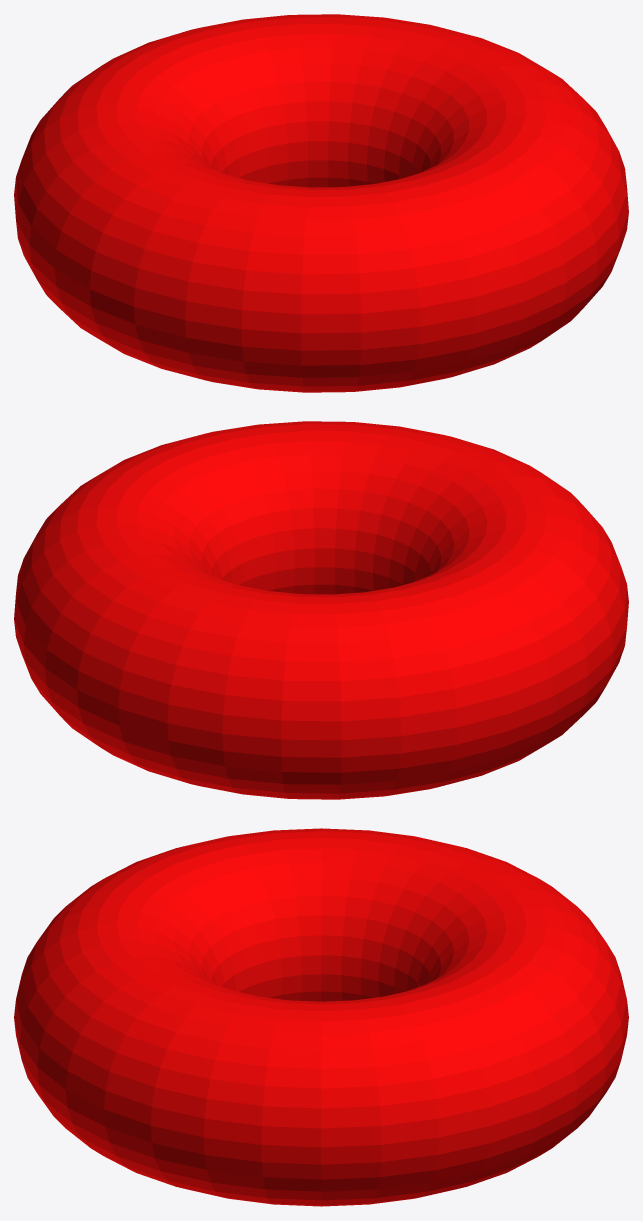
The picture shows the model from 3 angles, top to bottom: view 1: azimuth 30°, elevation 25°; view 2: azimuth 150°, elevation 25°; view 3: azimuth 270°, elevation 25°; orthographic projection.
Visible parts, largest first — view 1: High_LOD; view 2: High_LOD; view 3: High_LOD.
Boxes of the visible parts, x1,y1,x2,y2 form: High_LOD: [14, 14, 628, 392]; High_LOD: [14, 421, 628, 799]; High_LOD: [14, 828, 628, 1206].
Size of the model in its own units: 0.6 by 0.2 by 0.6.
